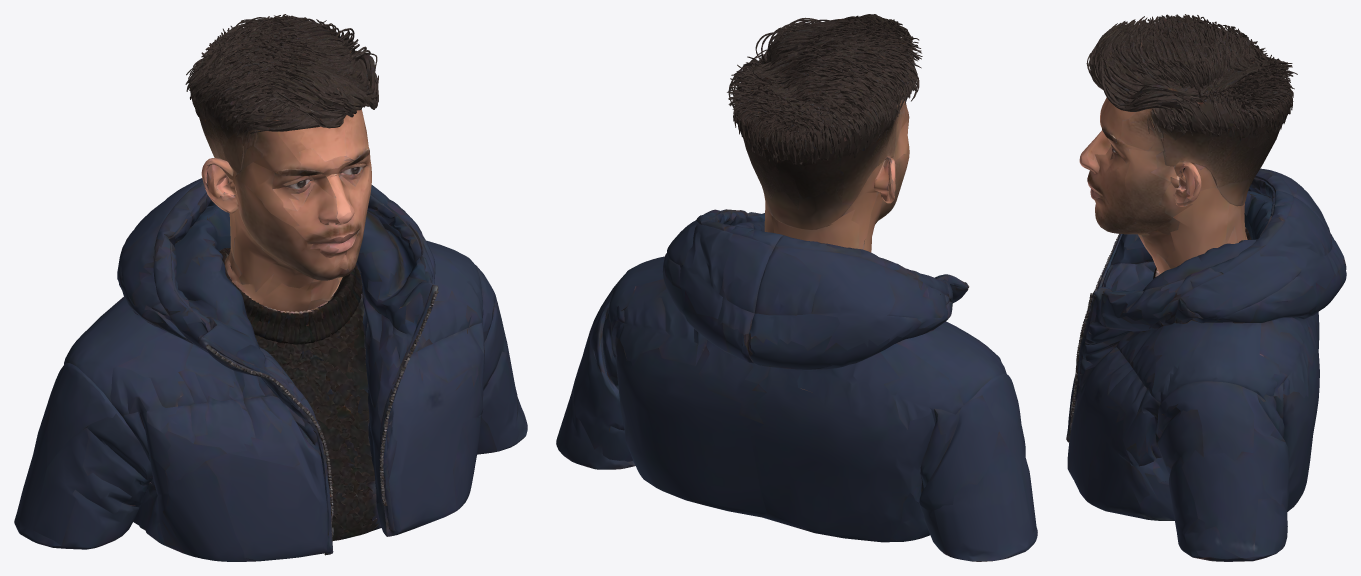
File: rajdeep-bust.glb
3 views of the same model, side by side, from view 1: azimuth 30°, elevation 25°; view 2: azimuth 150°, elevation 25°; view 3: azimuth 270°, elevation 25° (orthographic). The views are drawn at different scales.
Visible parts, largest first — view 1: Mesh_0; view 2: Mesh_0; view 3: Mesh_0.
Part boxes in pixels (<box>): Mesh_0: <box>14,14,527,561</box>; Mesh_0: <box>556,14,1037,561</box>; Mesh_0: <box>1066,14,1346,561</box>.
Bounding box in the file's own units: 1.9 × 1.76 × 1.04.
Materials: 1 (1 with a texture image).
